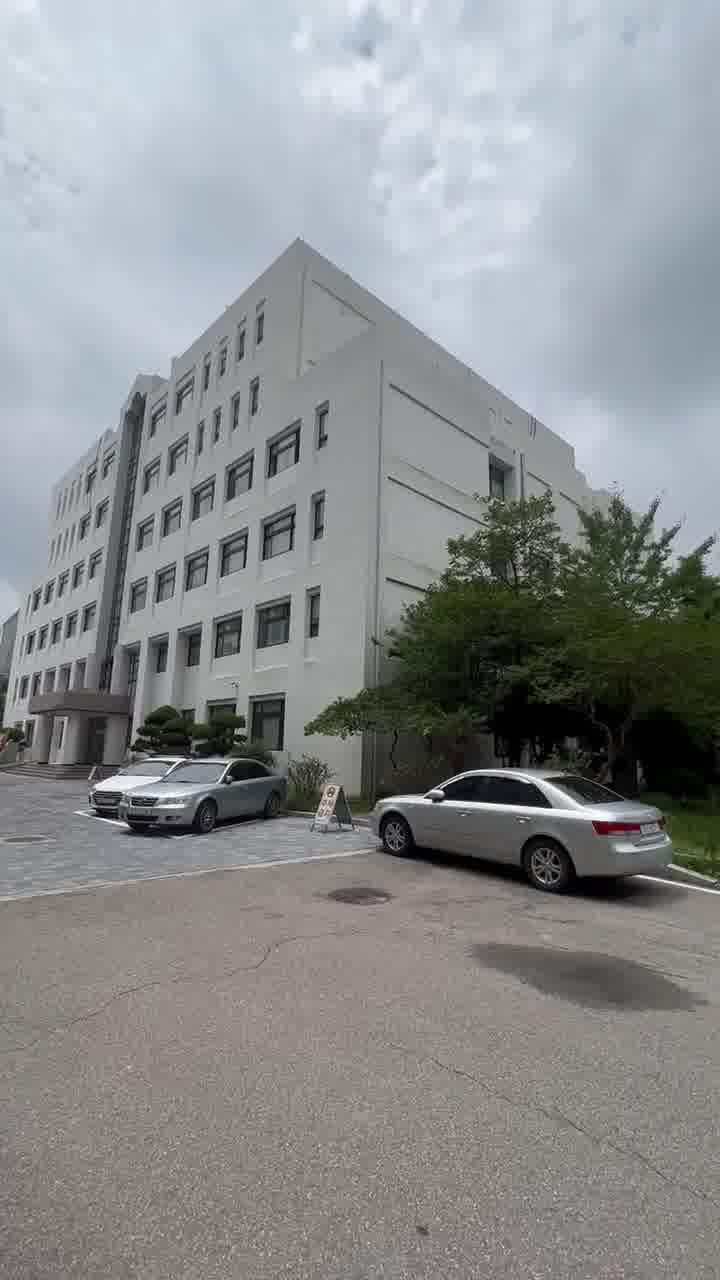building: (18, 248, 390, 734)
